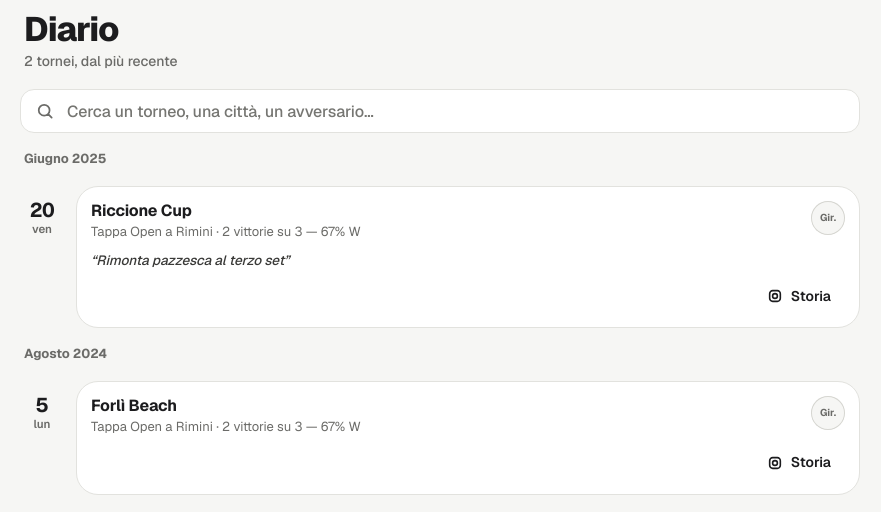
Test case: Diario — sottotitolo con la ricerca › usa il singolare con un risultato solo
Expected: the link "Riccione Cup" is shown, [91,200,192,221]
Click the search field named "Cerca nel diario" at (435, 111), box [65,90,805,132]
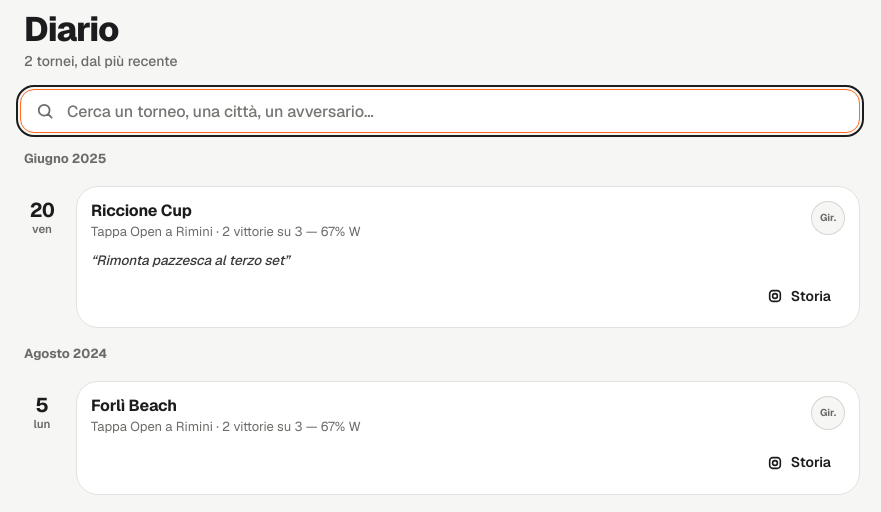
Type keys "forli"
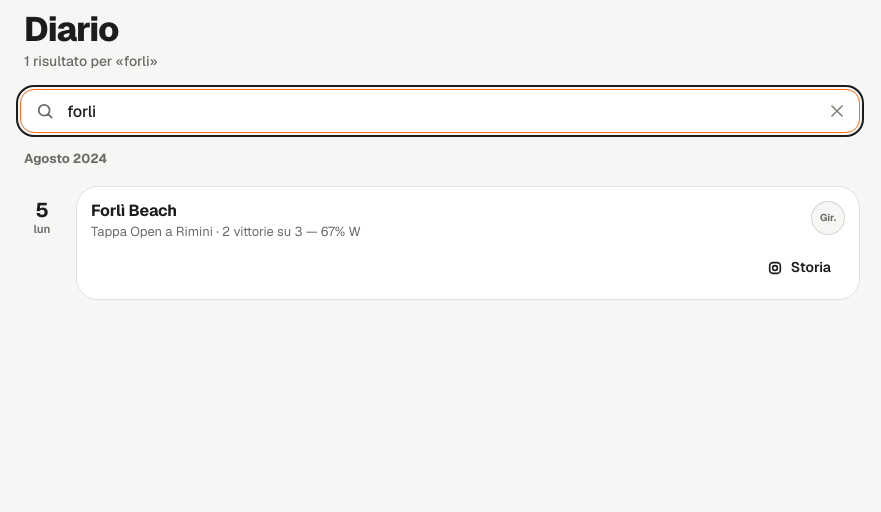
Result: the message reads "1 risultato per «forli»" at [24,52,158,70]
